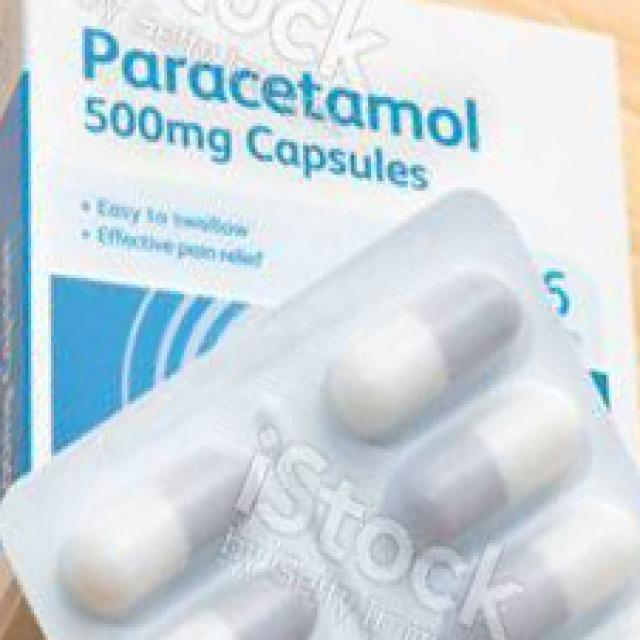drug-name: (79, 17, 489, 158)
